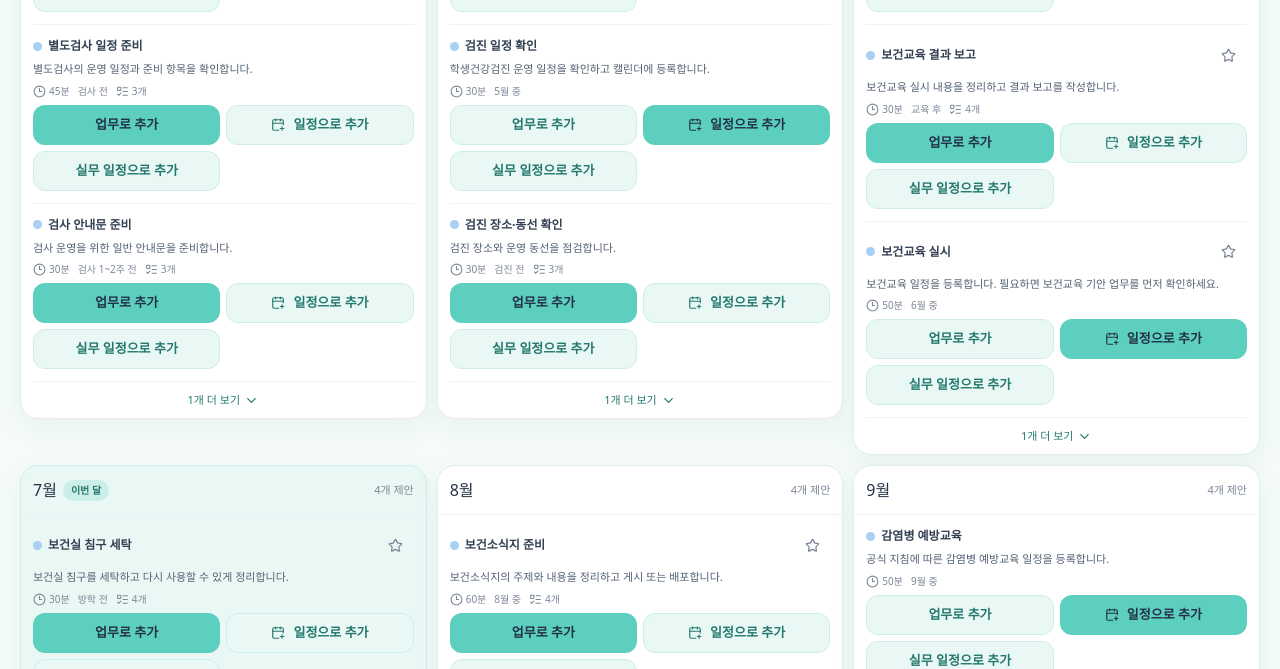
Scenario: AnnualPlanner › reveals recommendations beyond the first three without horizontal scrolling
The width and height of the screenshot is (1280, 669).
(page scrolled)
Expected: the text "감염병 예방 안내" is not shown
Step 1. Click the button with aria-label "4월 추천 업무 더 보기" → {"x": 223, "y": 400}, box [21,382,426,418]
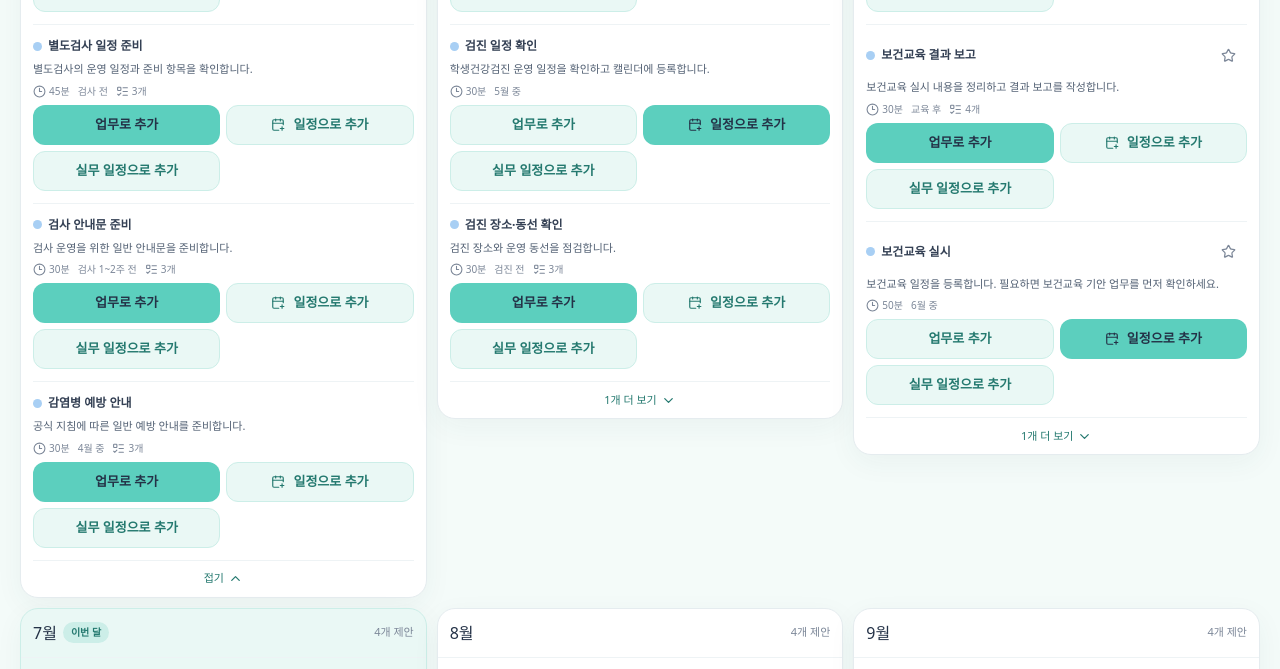
Expected: the text "감염병 예방 안내" is shown, [48,394,132,412]
